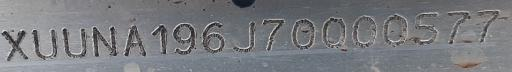letter: (200, 20, 232, 55), (412, 9, 438, 48), (89, 23, 119, 56), (320, 14, 348, 49), (232, 18, 260, 53), (444, 7, 472, 41), (351, 13, 379, 47), (4, 25, 28, 63), (260, 16, 286, 51), (32, 24, 58, 59), (291, 15, 317, 49), (382, 12, 408, 45), (60, 25, 86, 58), (174, 21, 198, 56), (122, 24, 148, 56), (475, 8, 501, 39), (148, 22, 170, 57)
